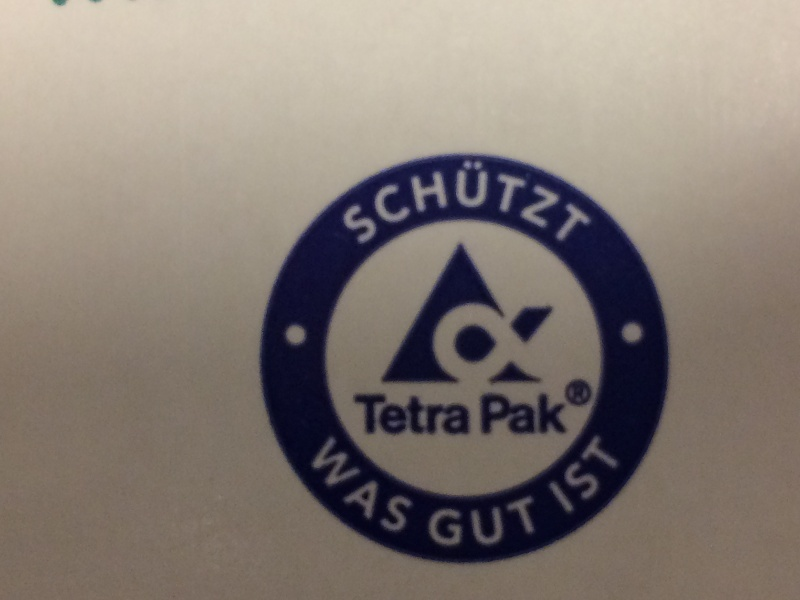text: (401, 430, 417, 549), (337, 430, 352, 549), (353, 430, 368, 549), (369, 430, 384, 549), (385, 430, 400, 549), (545, 430, 560, 520), (561, 430, 576, 520), (577, 430, 592, 520), (593, 430, 608, 520), (353, 160, 368, 246), (369, 160, 384, 246), (385, 160, 400, 246), (401, 160, 416, 246), (417, 160, 432, 246), (433, 160, 448, 246), (449, 160, 464, 246), (465, 160, 480, 246), (481, 160, 496, 246), (497, 160, 512, 246), (513, 160, 528, 246), (529, 160, 544, 246), (545, 160, 560, 246), (561, 160, 576, 246), (577, 160, 592, 246), (609, 430, 623, 520), (433, 493, 448, 554), (449, 493, 464, 554), (465, 493, 480, 554), (481, 493, 496, 554), (497, 493, 512, 554), (513, 493, 528, 554), (343, 160, 352, 246), (353, 394, 368, 438), (369, 394, 384, 438), (385, 394, 400, 438), (401, 394, 416, 438), (417, 394, 432, 438), (433, 394, 448, 438), (449, 394, 464, 438), (481, 393, 496, 436), (497, 393, 512, 436), (513, 393, 528, 436), (529, 393, 544, 436), (545, 393, 560, 436), (331, 430, 336, 549), (529, 493, 538, 554), (561, 393, 569, 436), (427, 493, 432, 554), (465, 394, 470, 438), (577, 382, 586, 404), (593, 160, 594, 246), (574, 382, 576, 404)
